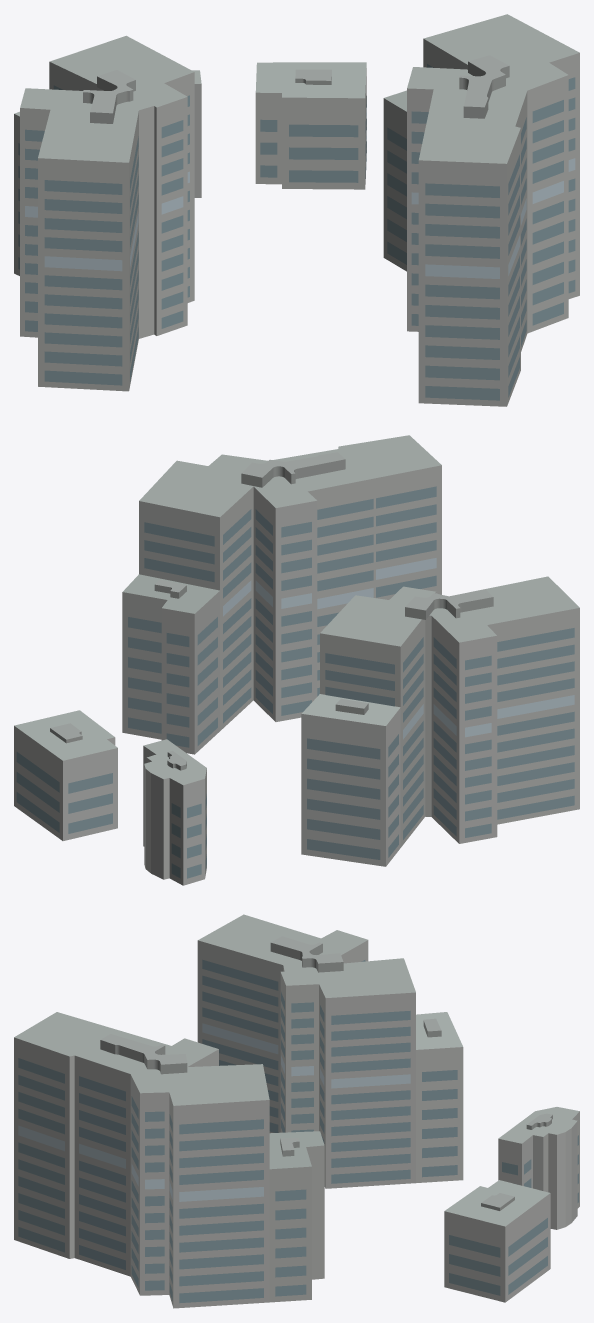
The model's file is apt-a12179501.glb.
The picture shows the model from 3 angles, top to bottom: view 1: azimuth 30°, elevation 25°; view 2: azimuth 150°, elevation 25°; view 3: azimuth 270°, elevation 25°; orthographic projection. The views are drawn at different scales.
Parts seen in each view (by area): view 1: apt-a12179501; view 2: apt-a12179501; view 3: apt-a12179501.
Part boxes in pixels (<box>): apt-a12179501: <box>14,14,579,406</box>; apt-a12179501: <box>14,435,579,885</box>; apt-a12179501: <box>14,914,579,1308</box>.
Size of the model in its own units: 69.92 by 34 by 82.22.
